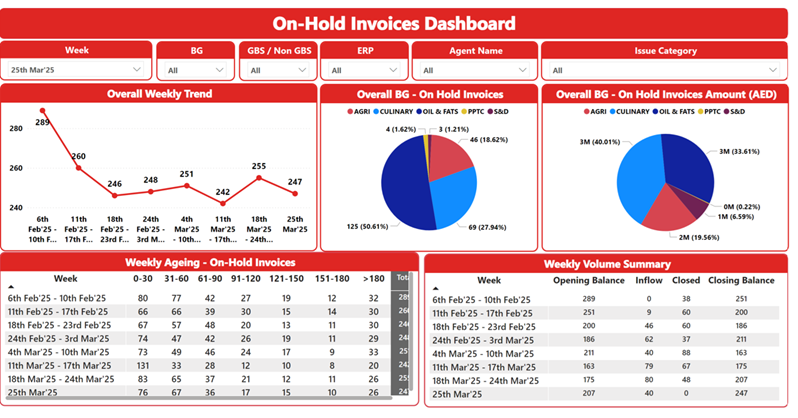

Layout of this report page (visuals, bound fields, positions):
{"tool":"powerbi","page":{"name":"Overall Summary","canvas":[1420,722],"ordinal":0},"visuals":[{"type":"lineChart","title":"Overall Weekly Trend","fields":{"Y":["Consolidated_Raw Data.Week"],"Category":["Consolidated_Raw Data.PO_New"]},"box":[6.7,134.4,564.4,299],"z":0},{"type":"textbox","title":"IFFCO On-Hold Invoices Dashboard","box":[4.9,0,1404.5,55.2],"z":1000},{"type":"pivotTable","title":"Weekly Ageing - On-Hold Invoices","fields":{"Values":["Consolidated_Raw Data.PO.Org Name"],"Columns":["Consolidated_Raw Data.Ageing"],"Rows":["Consolidated_Raw Data.PO_New"]},"box":[6.3,434,746.3,274.6],"z":2000},{"type":"slicer","title":"BG","fields":{"Values":["Consolidated_Raw Data.PO.Org Name"]},"box":[285.4,59.1,140.2,70.9],"z":3000},{"type":"slicer","title":"Week","fields":{"Values":["Consolidated_Raw Data.PO_New"]},"box":[6.5,58.3,272,71.2],"z":4000},{"type":"slicer","title":"GBS / Non GBS","fields":{"Values":["Consolidated_Raw Data.GBS/ Non-GBS"]},"box":[432.4,59.1,140.2,70.9],"z":5000},{"type":"slicer","title":"ERP","fields":{"Values":["Consolidated_Raw Data.ERP"]},"box":[576.2,58.8,157.9,70.6],"z":6000},{"type":"slicer","title":"Issue Category","fields":{"Values":["Consolidated_Raw Data.Workflow Reason"]},"box":[969.3,58.8,440.1,70.6],"z":7000},{"type":"slicer","title":"Agent Name","fields":{"Values":["Consolidated_Raw Data.Responsible"]},"box":[739.1,58.8,225.1,70.6],"z":8000},{"type":"pieChart","title":"Overall BG - On Hold Invoices","fields":{"Category":["Consolidated_Raw Data.PO.Org Name"],"Y":["Consolidated_Raw Data.PO.Org Name"]},"box":[576.4,134.8,388.1,298.8],"z":9000},{"type":"pivotTable","title":"Weekly Volume Summary","fields":{"Rows":["Consolidated_Raw Data.PO_New"],"Values":["Consolidated_Raw Data.Period","Consolidated_Raw Data.Inflow Count","Consolidated_Raw Data.Closed Count","Consolidated_Raw Data.Closing Balance"]},"box":[761,436.8,648.4,273.8],"z":10000},{"type":"pieChart","title":"Overall BG - On Hold Invoices Amount (AED)","fields":{"Category":["Consolidated_Raw Data.PO.Org Name"],"Y":["Consolidated_Raw Data.Total Amount (AED)"]},"box":[969.7,134.9,440.8,298.7],"z":11000}]}

Visuals, with their boxes in screenshot pixels (x1, y1, x2, y2), scaled from the page's 1420x722 canvas onto the 798x418 screenshot:
"Overall Weekly Trend" lineChart: bbox=(4, 78, 321, 251)
"IFFCO On-Hold Invoices Dashboard" textbox: bbox=(3, 0, 792, 32)
"Weekly Ageing - On-Hold Invoices" pivotTable: bbox=(4, 251, 423, 410)
"BG" slicer: bbox=(160, 34, 239, 75)
"Week" slicer: bbox=(4, 34, 157, 75)
"GBS / Non GBS" slicer: bbox=(243, 34, 322, 75)
"ERP" slicer: bbox=(324, 34, 413, 75)
"Issue Category" slicer: bbox=(545, 34, 792, 75)
"Agent Name" slicer: bbox=(415, 34, 542, 75)
"Overall BG - On Hold Invoices" pieChart: bbox=(324, 78, 542, 251)
"Weekly Volume Summary" pivotTable: bbox=(428, 253, 792, 411)
"Overall BG - On Hold Invoices Amount (AED)" pieChart: bbox=(545, 78, 793, 251)
